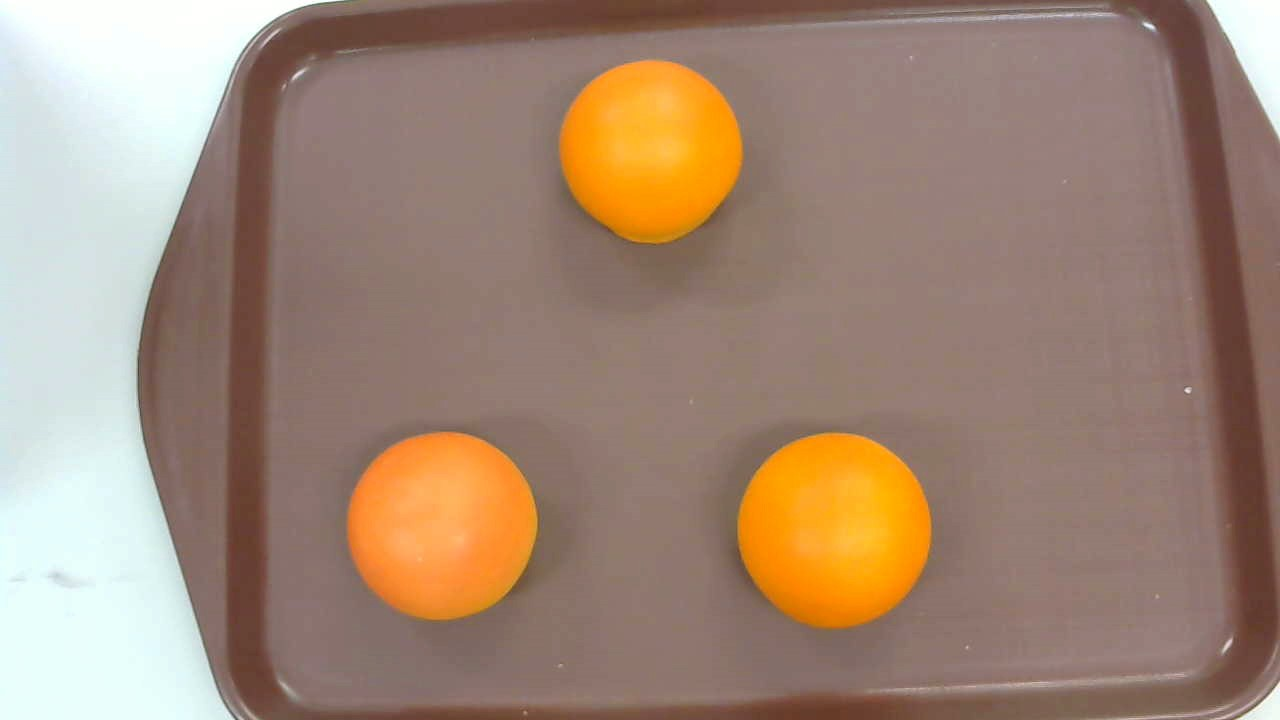bun: (738, 431, 933, 626), (347, 431, 538, 619), (560, 60, 743, 245)
